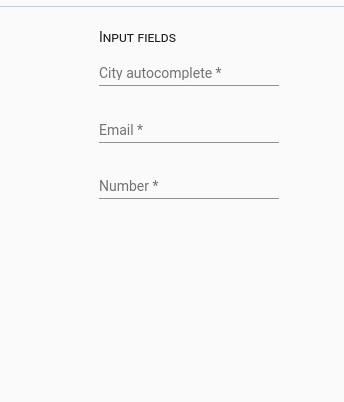field_line: (94, 56, 279, 90), (94, 118, 282, 147), (94, 172, 282, 201)
